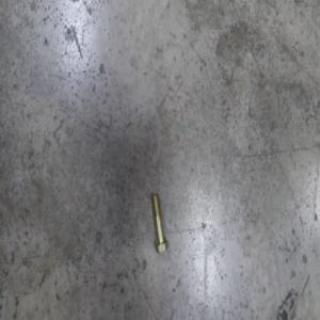Bolttrack_idkeyframe: (151, 193, 169, 254)
